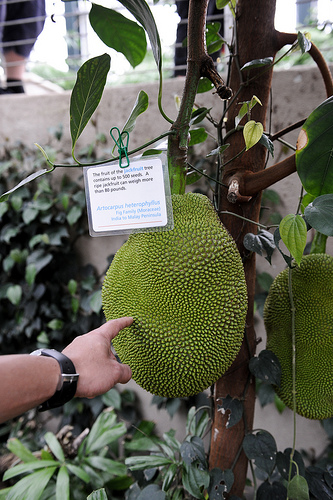jackfruit: (101, 172, 251, 401), (264, 254, 331, 423)
